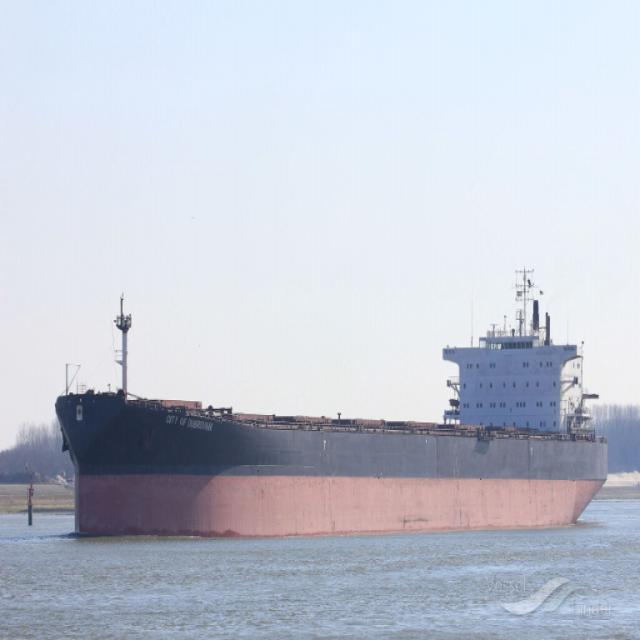OCR: (164, 409, 222, 441)
